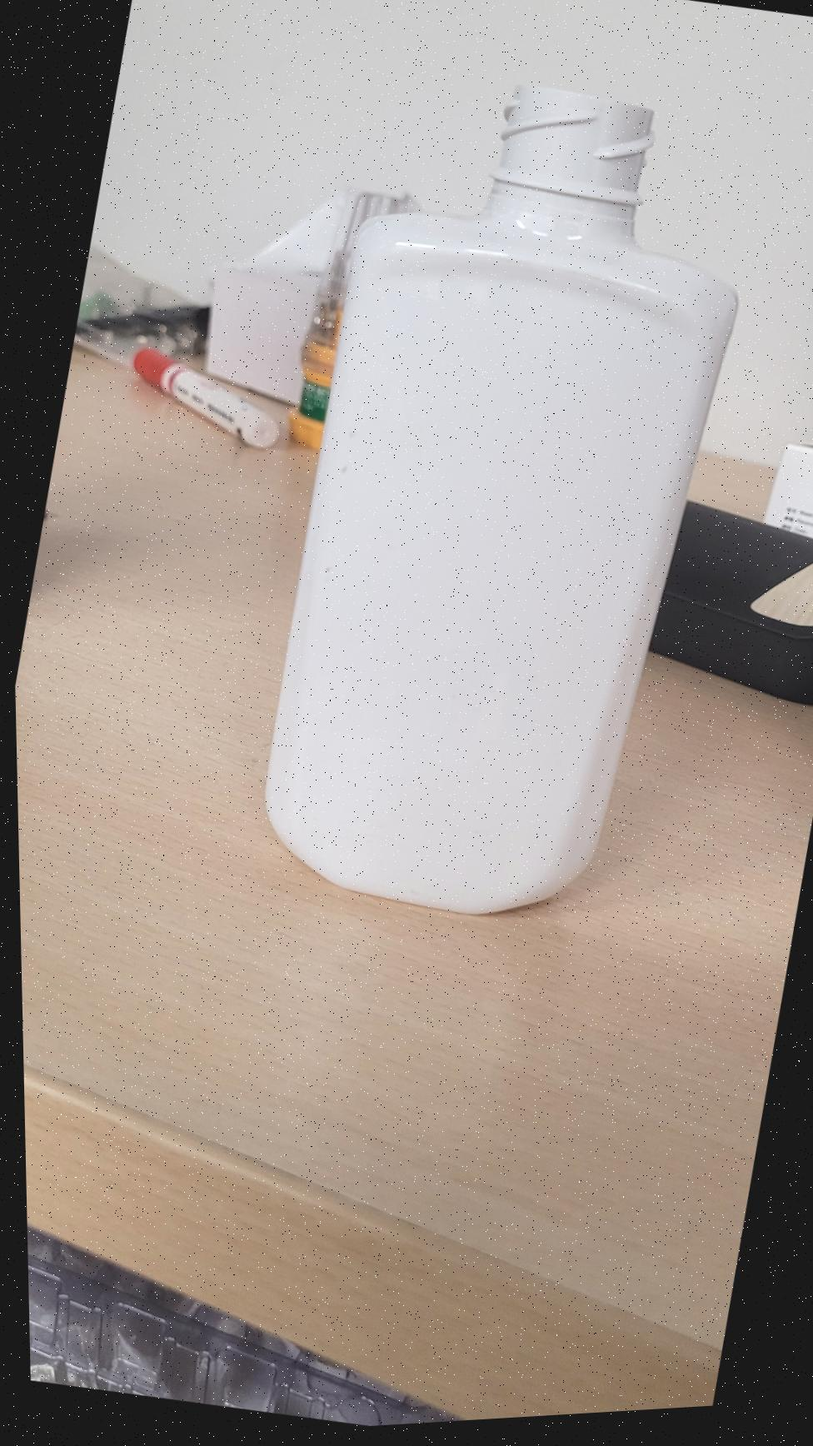bottle: (265, 84, 736, 913)
